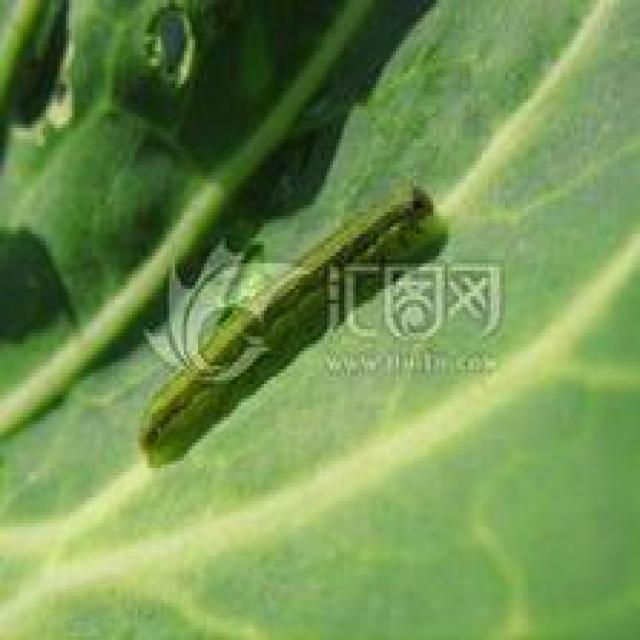BeetArmyWorm-Larva-: (130, 172, 433, 466)
